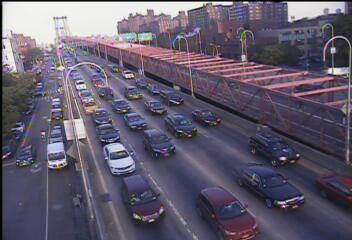neg: (209, 41, 222, 58)
